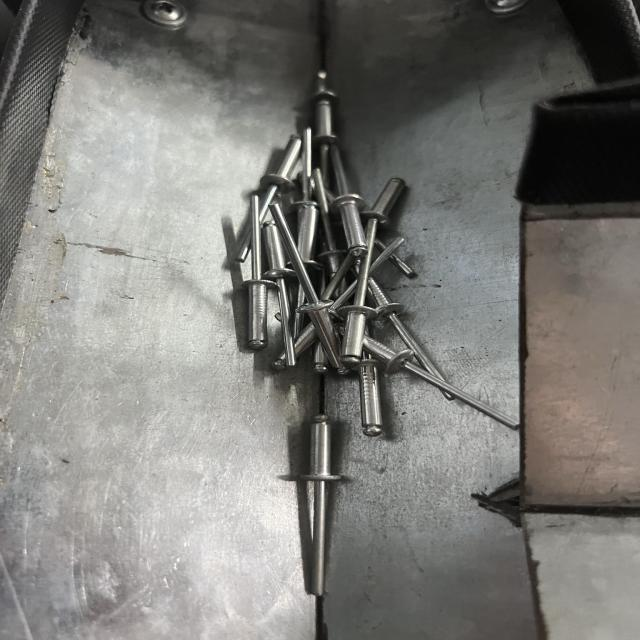rivet: (295, 411, 344, 599), (337, 215, 386, 372), (246, 193, 275, 354)
